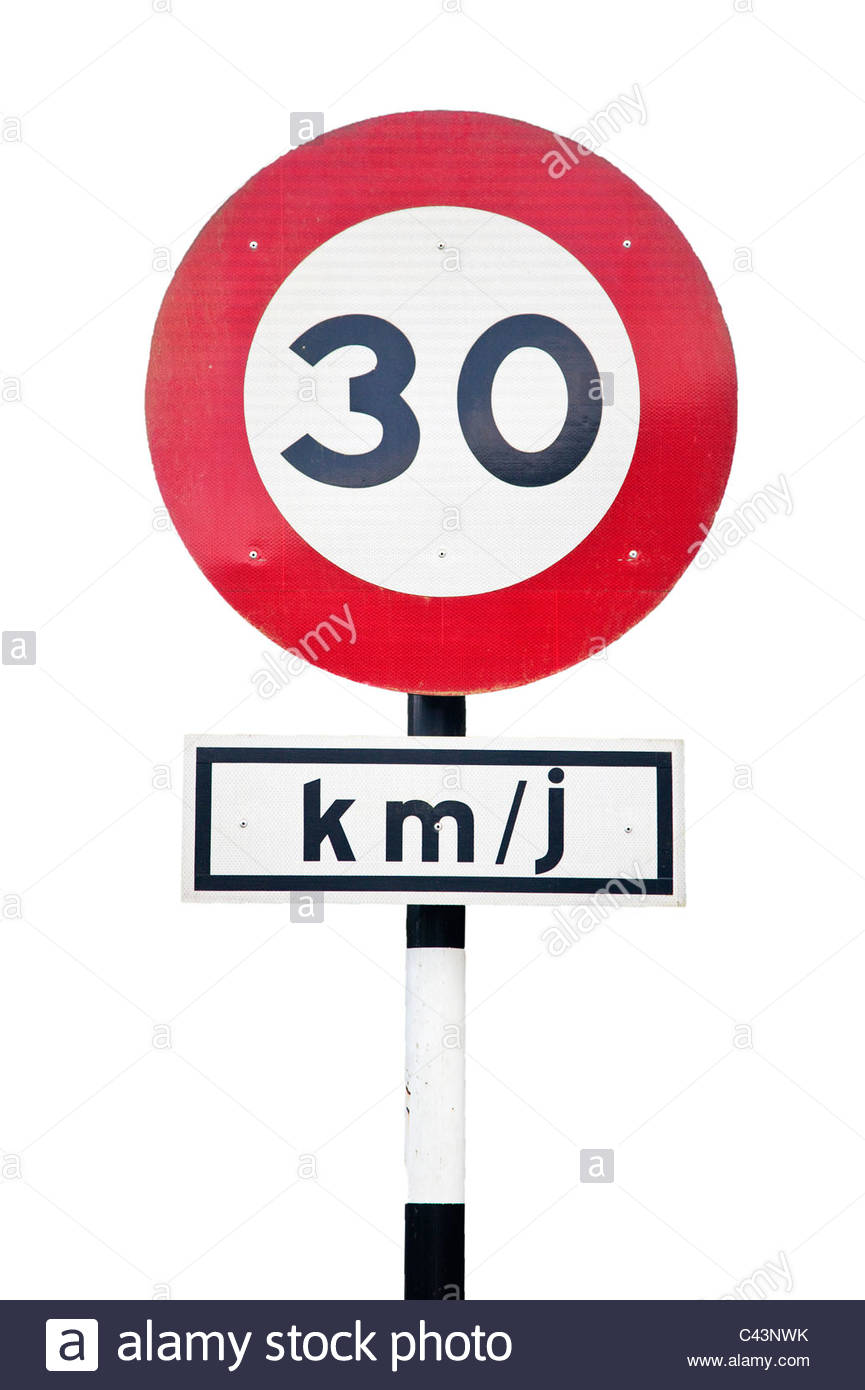Speed_limit_30km: (135, 108, 744, 694)
